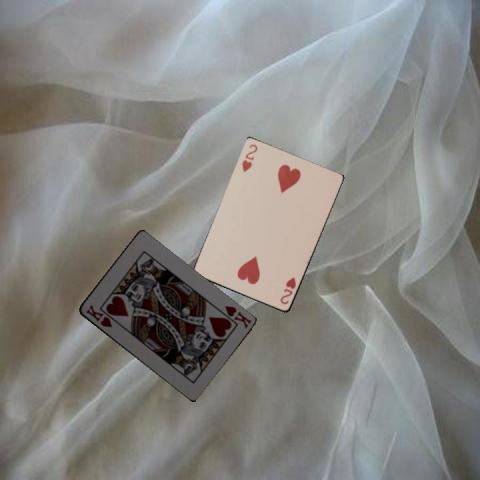2h: (239, 141, 259, 174), (278, 275, 298, 306)
Kh: (221, 303, 253, 330), (83, 301, 113, 329)
